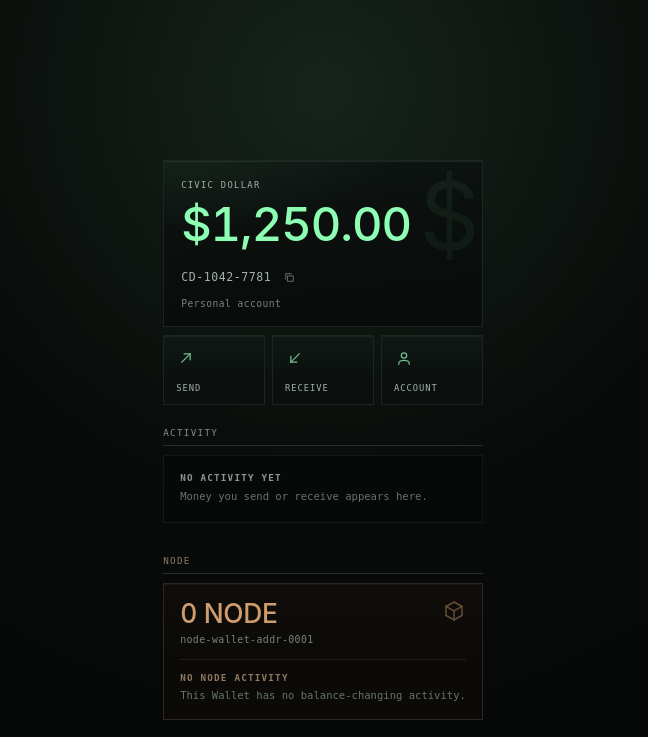
Test: Wallet SEND › reviews the exact formatted amount and recipient before any money moves
This screenshot has width=648, height=737.
Click the button "SEND" at {"x": 214, "y": 370}, box x1=163 y1=335 x2=265 y2=405
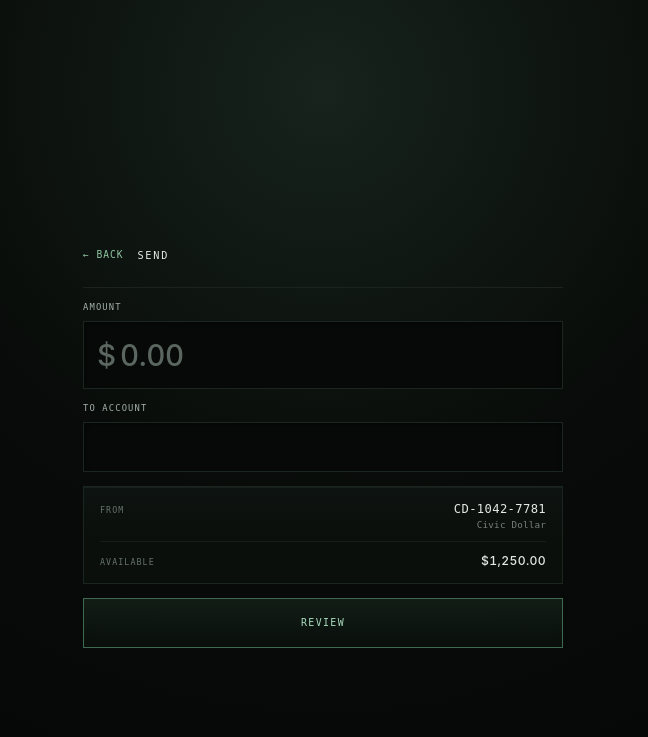
Type "CD-2000-0002" into the field labelled "TO ACCOUNT" at {"x": 323, "y": 446}, box x1=83 y1=422 x2=563 y2=472
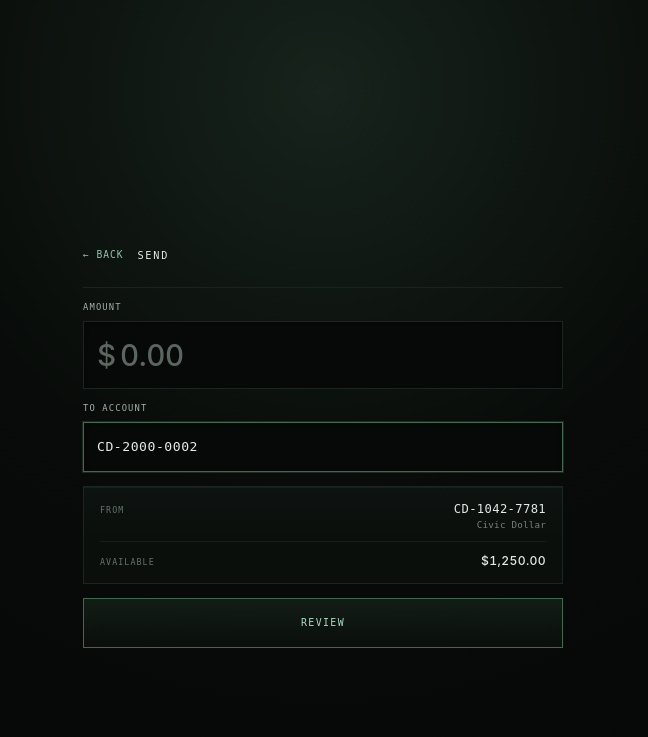
Type "25.5" into the field labelled "AMOUNT" at {"x": 323, "y": 354}, box x1=83 y1=320 x2=563 y2=388
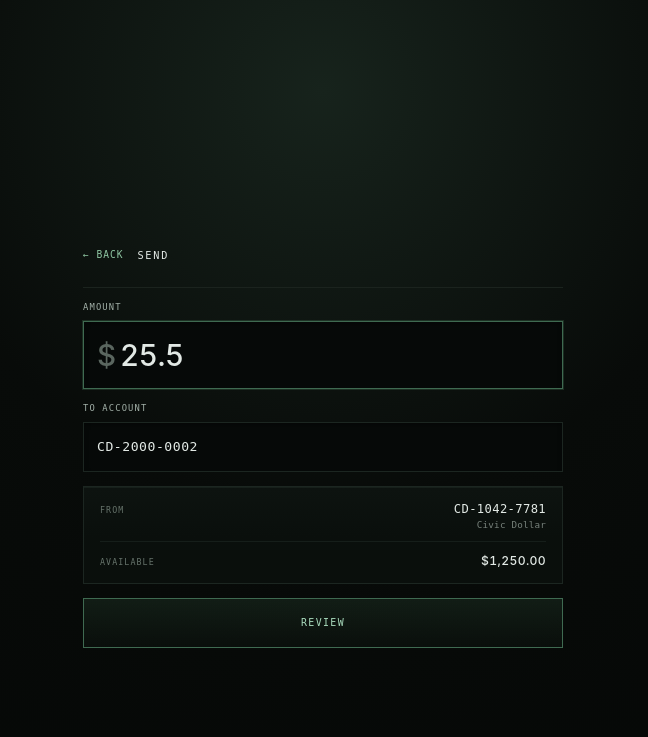
Click the button "REVIEW" at {"x": 323, "y": 622}, box x1=83 y1=598 x2=563 y2=648
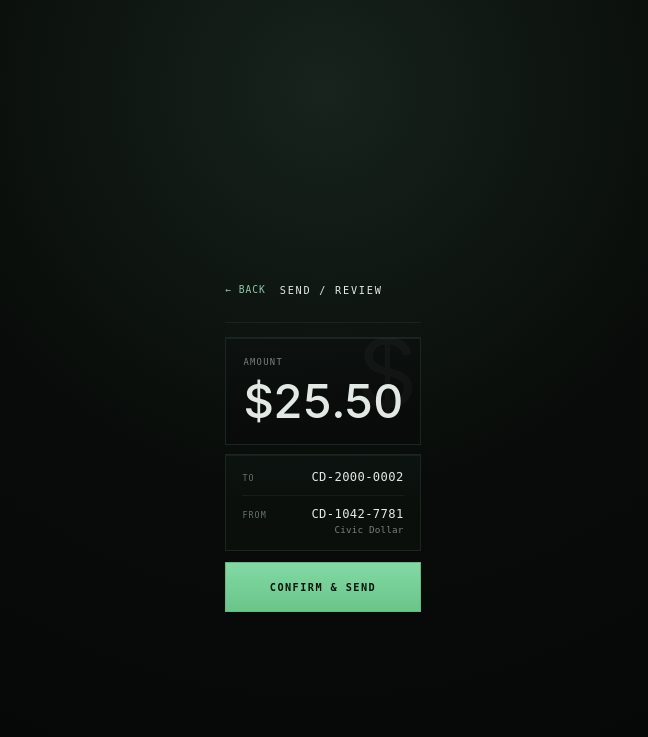
expect the element named "Review transfer" is shown: met, box x1=225 y1=268 x2=421 y2=612
expect the text "$25.50" is shown: met, box x1=243 y1=377 x2=403 y2=425
expect the text "TO" shows "CD-2000-0002": met, box x1=311 y1=470 x2=404 y2=484
